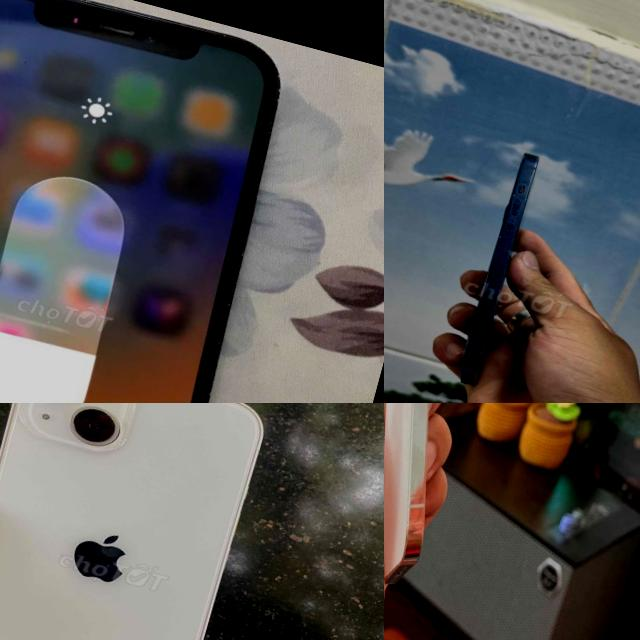gen_12_13: (0, 0, 317, 403), (0, 403, 280, 640), (384, 403, 545, 598), (442, 143, 566, 394)
scratch: (471, 165, 540, 332)
